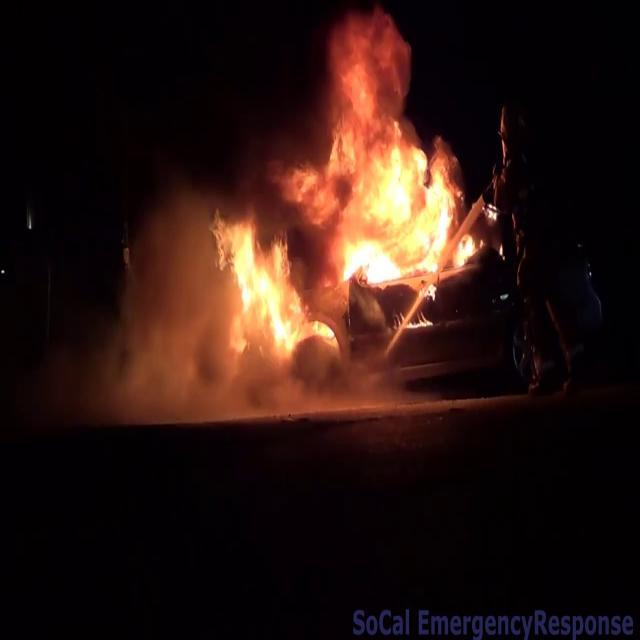Fire: (205, 8, 501, 350)
Smoke: (70, 158, 230, 424)
